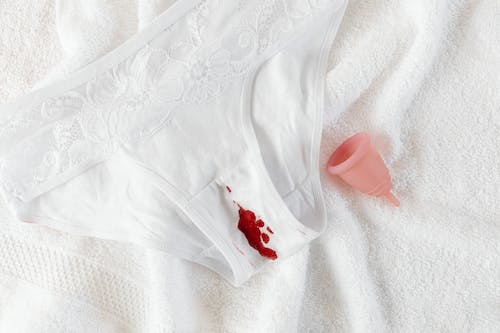blood: (225, 183, 279, 261)
